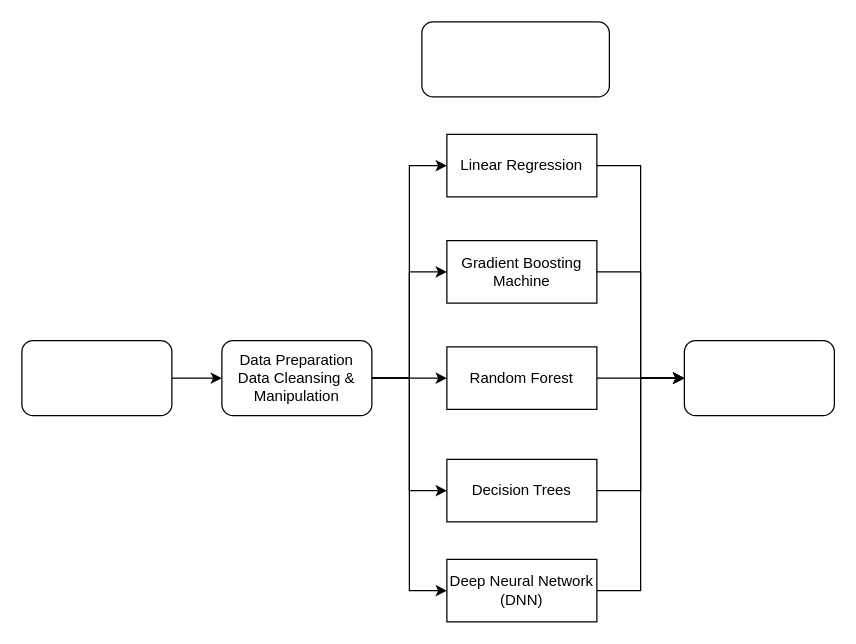
The diagram is 856 pixels wide and 644 high, and some of its shapes have lost their labels. Each missing label, with the centre of its shape:
Data Collection Housing Price in Beijing: point (96, 377)
Evaluation of Model: point (758, 377)
Machine Learning Model: point (515, 59)
